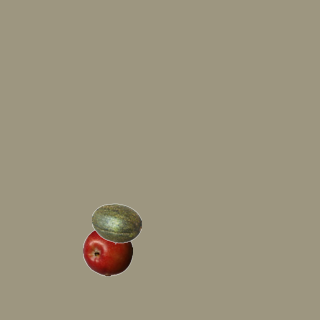Apple Braeburn: (82, 226, 132, 276)
Melon Piel de Sapo: (91, 198, 141, 248)
